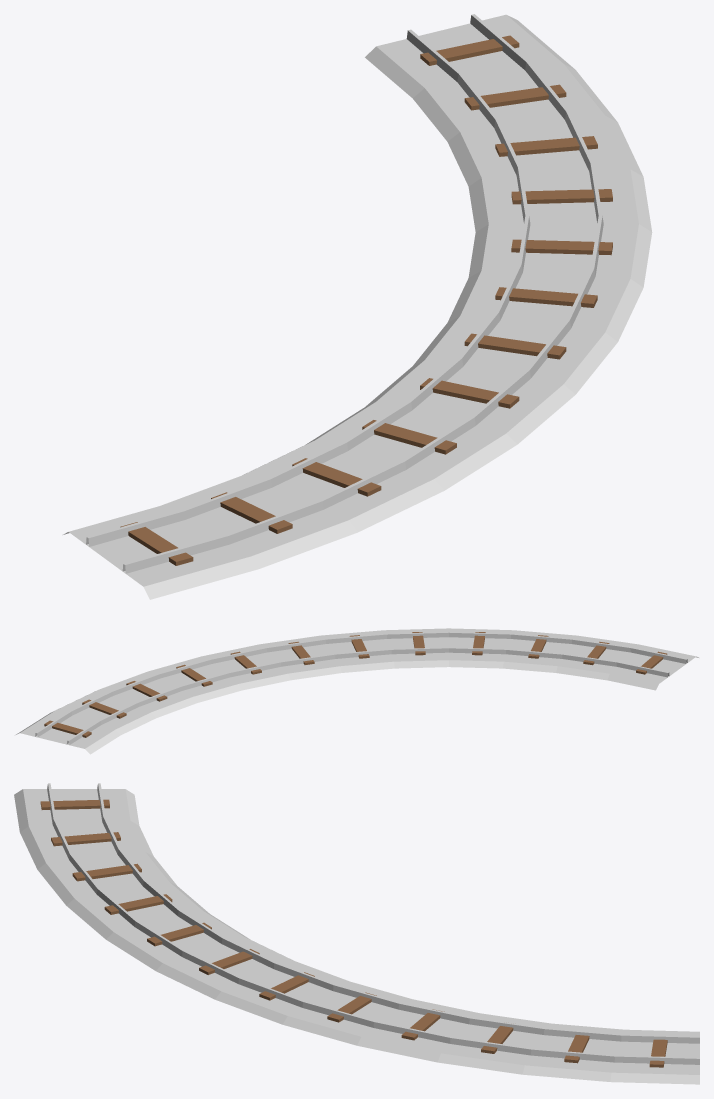
File: 1_curve_medium.fbx
3 renders of one model, top to bottom at view 1: azimuth 30°, elevation 25°; view 2: azimuth 150°, elevation 25°; view 3: azimuth 270°, elevation 25°, orthographic. The views are drawn at different scales.
Visible parts, largest first — view 1: 1_curve_medium; view 2: 1_curve_medium; view 3: 1_curve_medium.
Boxes of the visible parts, <box> form: 1_curve_medium: <box>63,14,652,599</box>; 1_curve_medium: <box>16,628,698,754</box>; 1_curve_medium: <box>14,783,699,1084</box>.
Size of the model in its own units: 10.96 by 0.2 by 10.96.
